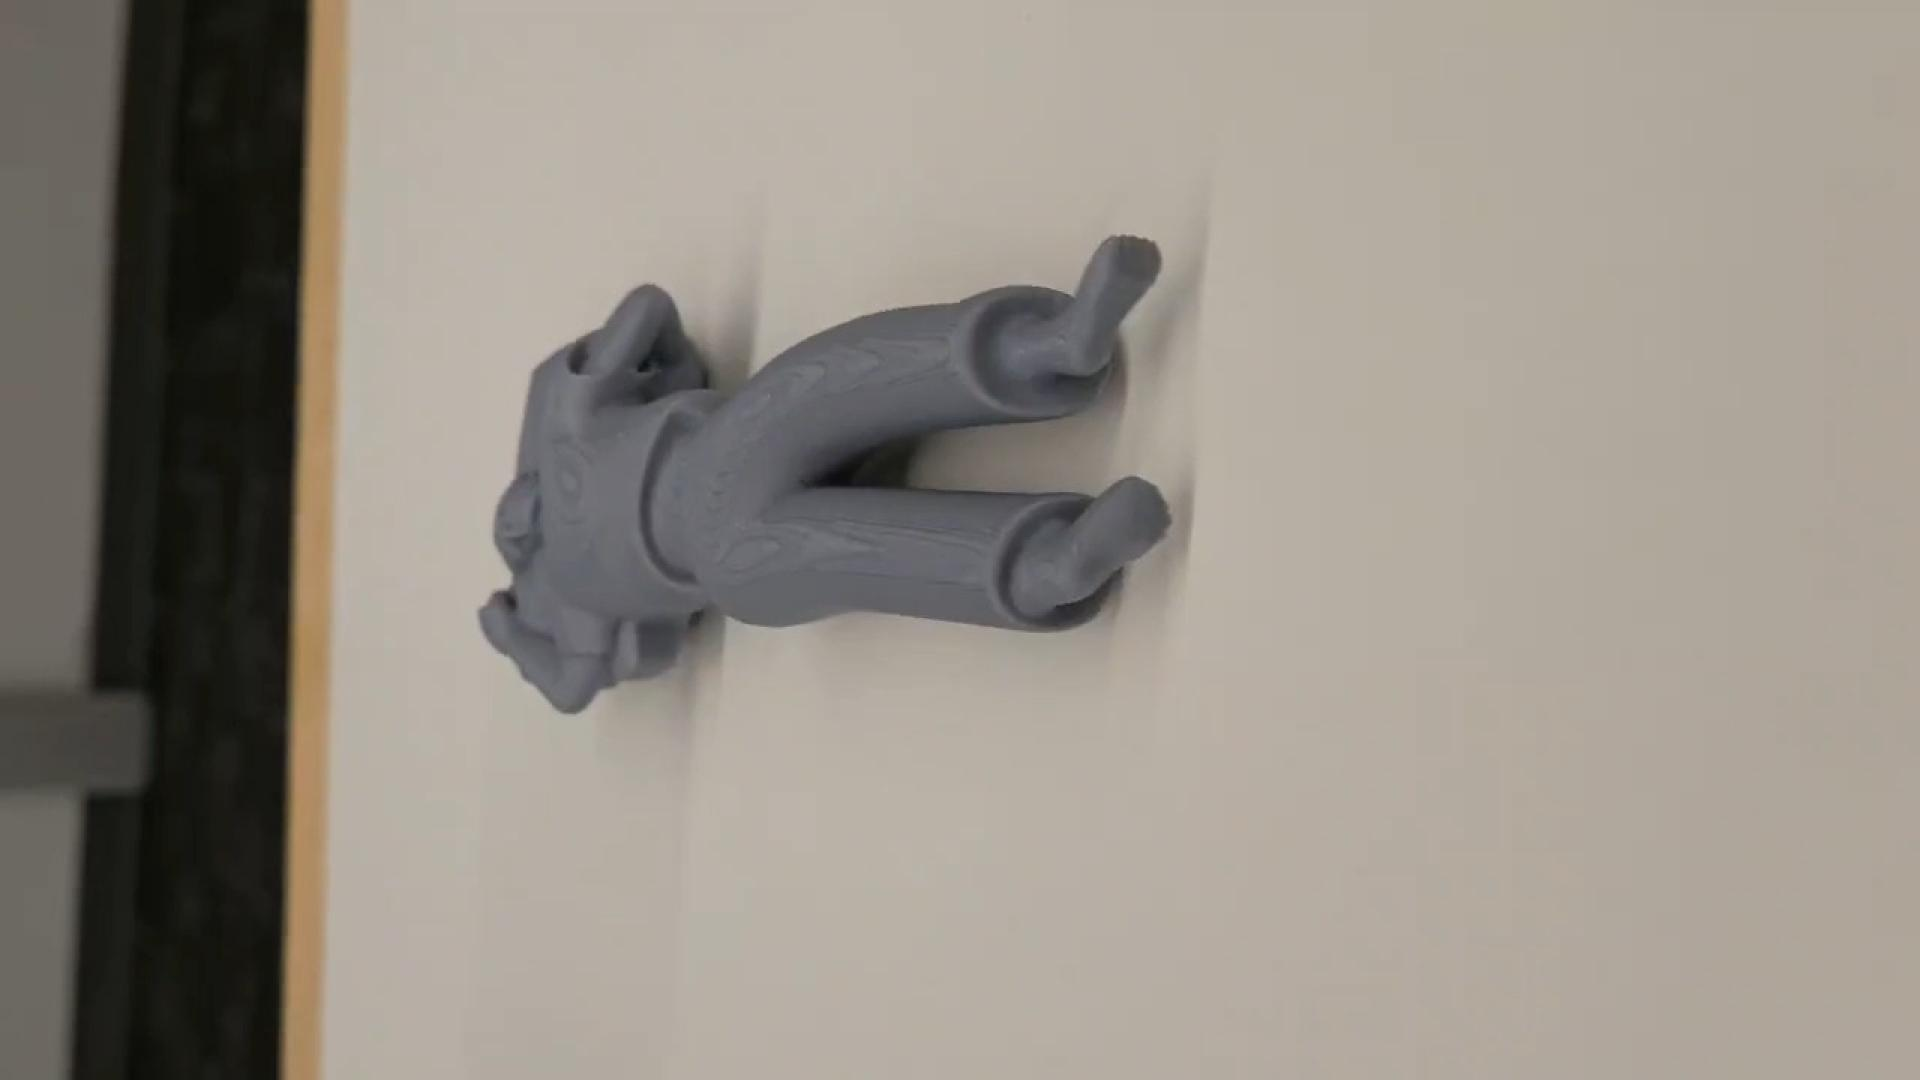Bad-style: (472, 224, 1180, 720)
